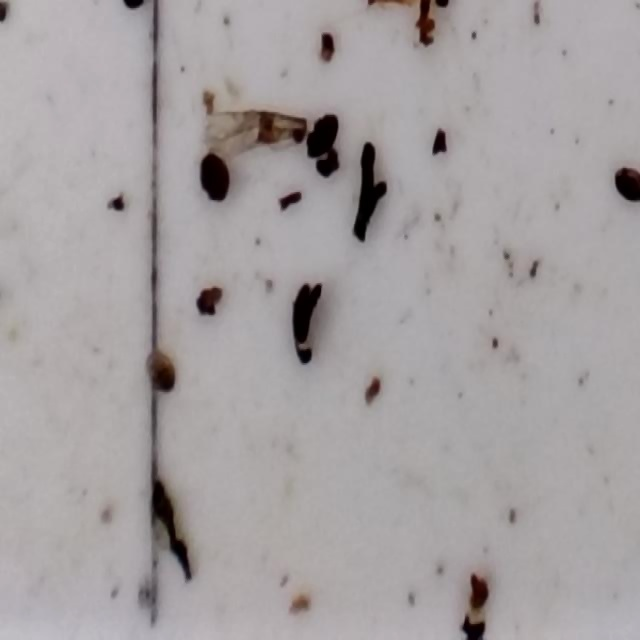varroa: (201, 151, 230, 205)
